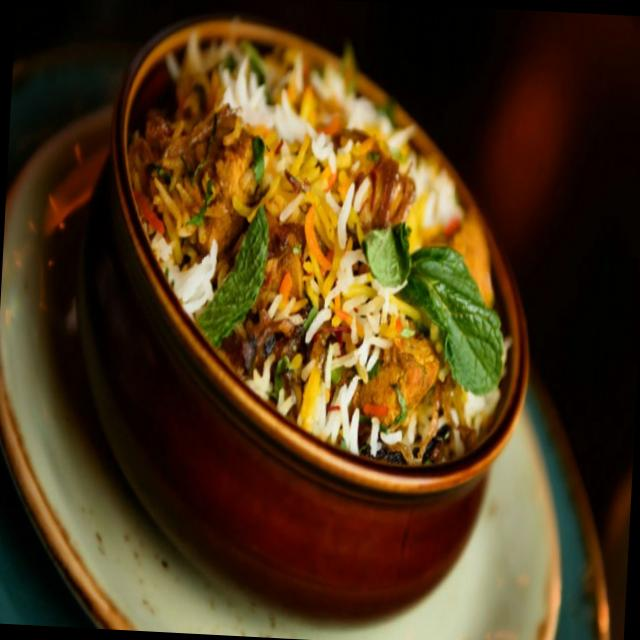Biryani: (116, 31, 524, 470)
